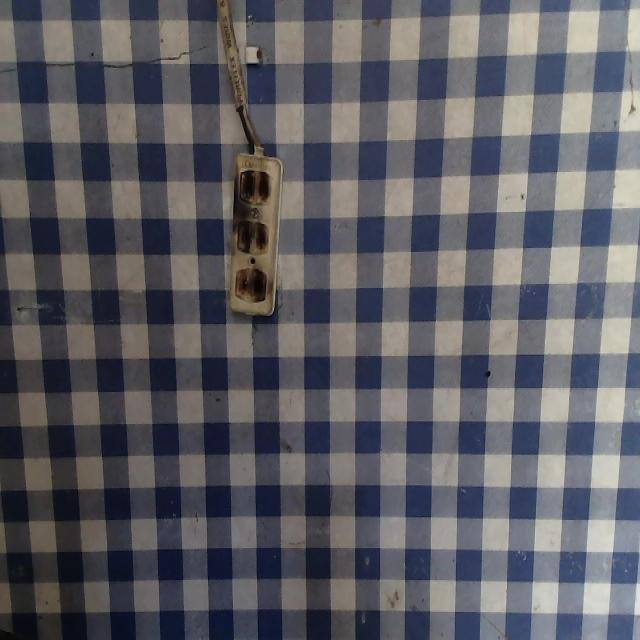-: (231, 257, 272, 311), (231, 215, 273, 257), (232, 167, 276, 205)
